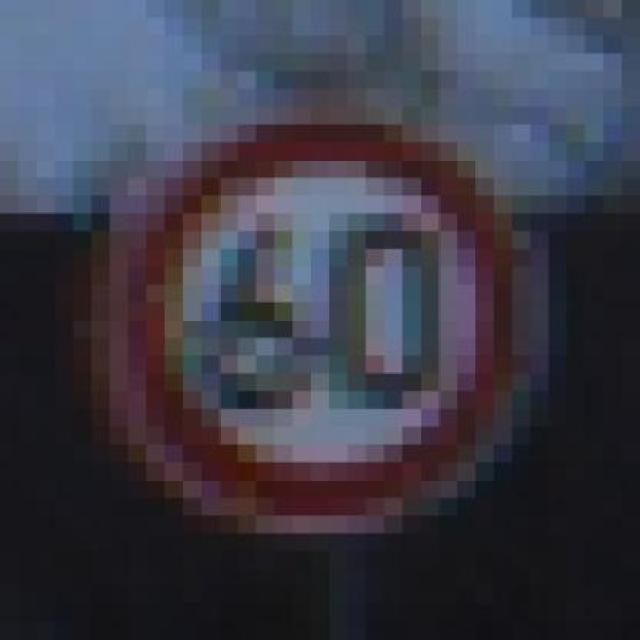forb_speed_over_60: (137, 115, 517, 517)
